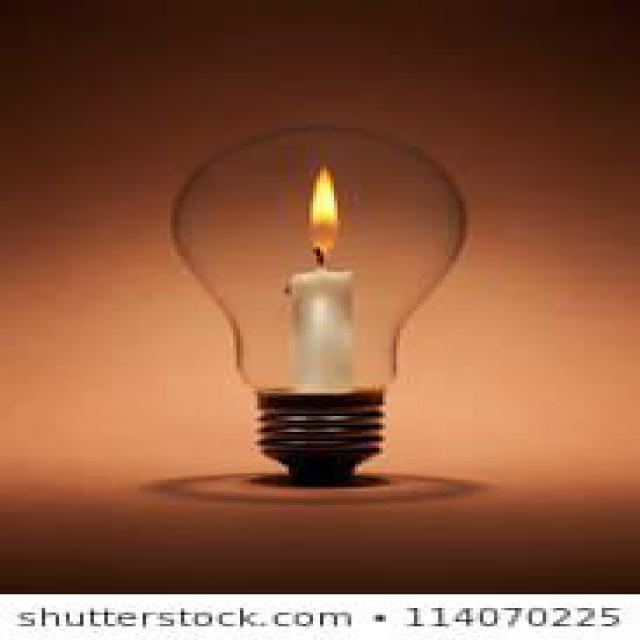Fire: (306, 166, 338, 262)
